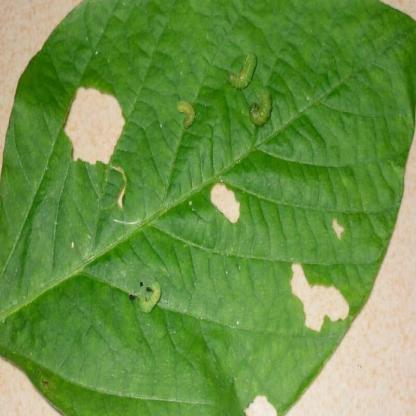armyworm: (228, 46, 256, 92), (136, 277, 164, 318), (249, 87, 274, 130), (173, 94, 197, 132)
